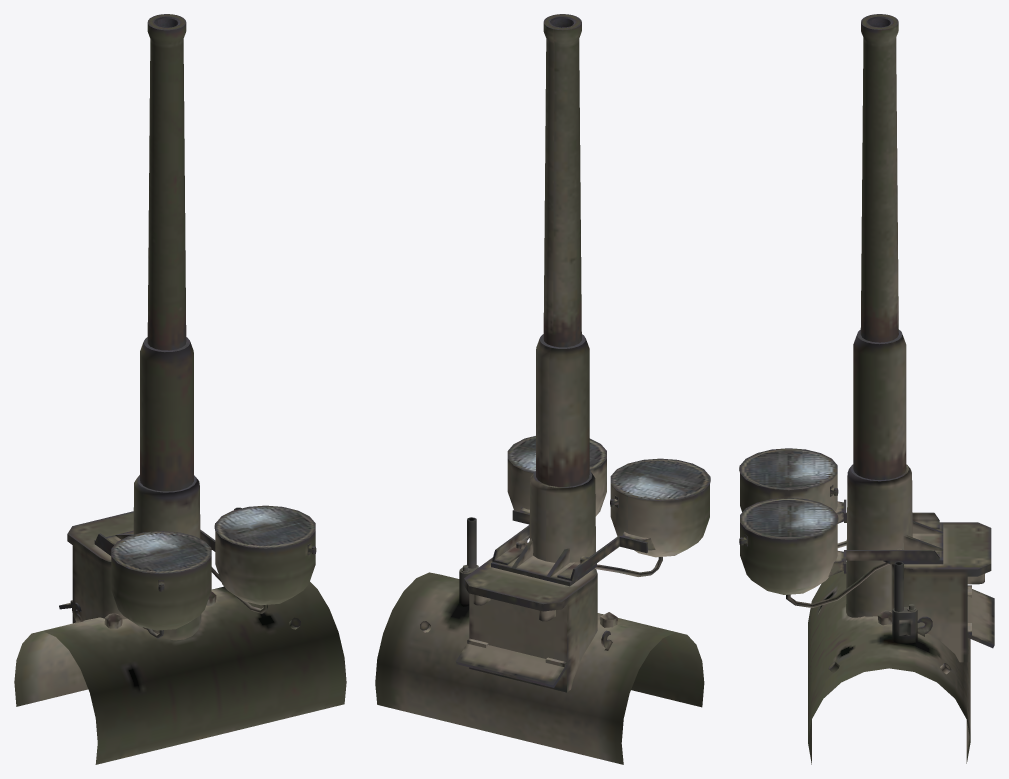
The model's file is Gun_02.glb.
3 renders of one model, left to right at view 1: azimuth 30°, elevation 25°; view 2: azimuth 150°, elevation 25°; view 3: azimuth 270°, elevation 25°, orthographic. The views are drawn at different scales.
Parts seen in each view (by area): view 1: set_0_group_0; view 2: set_0_group_0; view 3: set_0_group_0.
Boxes of the visible parts, x1=… form: set_0_group_0: x1=14, y1=14, x2=346, y2=764; set_0_group_0: x1=375, y1=14, x2=710, y2=764; set_0_group_0: x1=739, y1=14, x2=994, y2=764.
Bounding box in the file's own units: 0.5646 × 1.5 × 0.514.
Materials: 1 (1 with a texture image).
